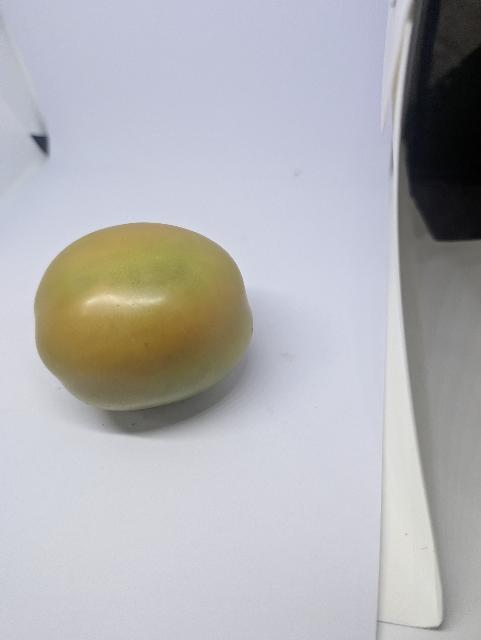breaker: (35, 223, 253, 410)
